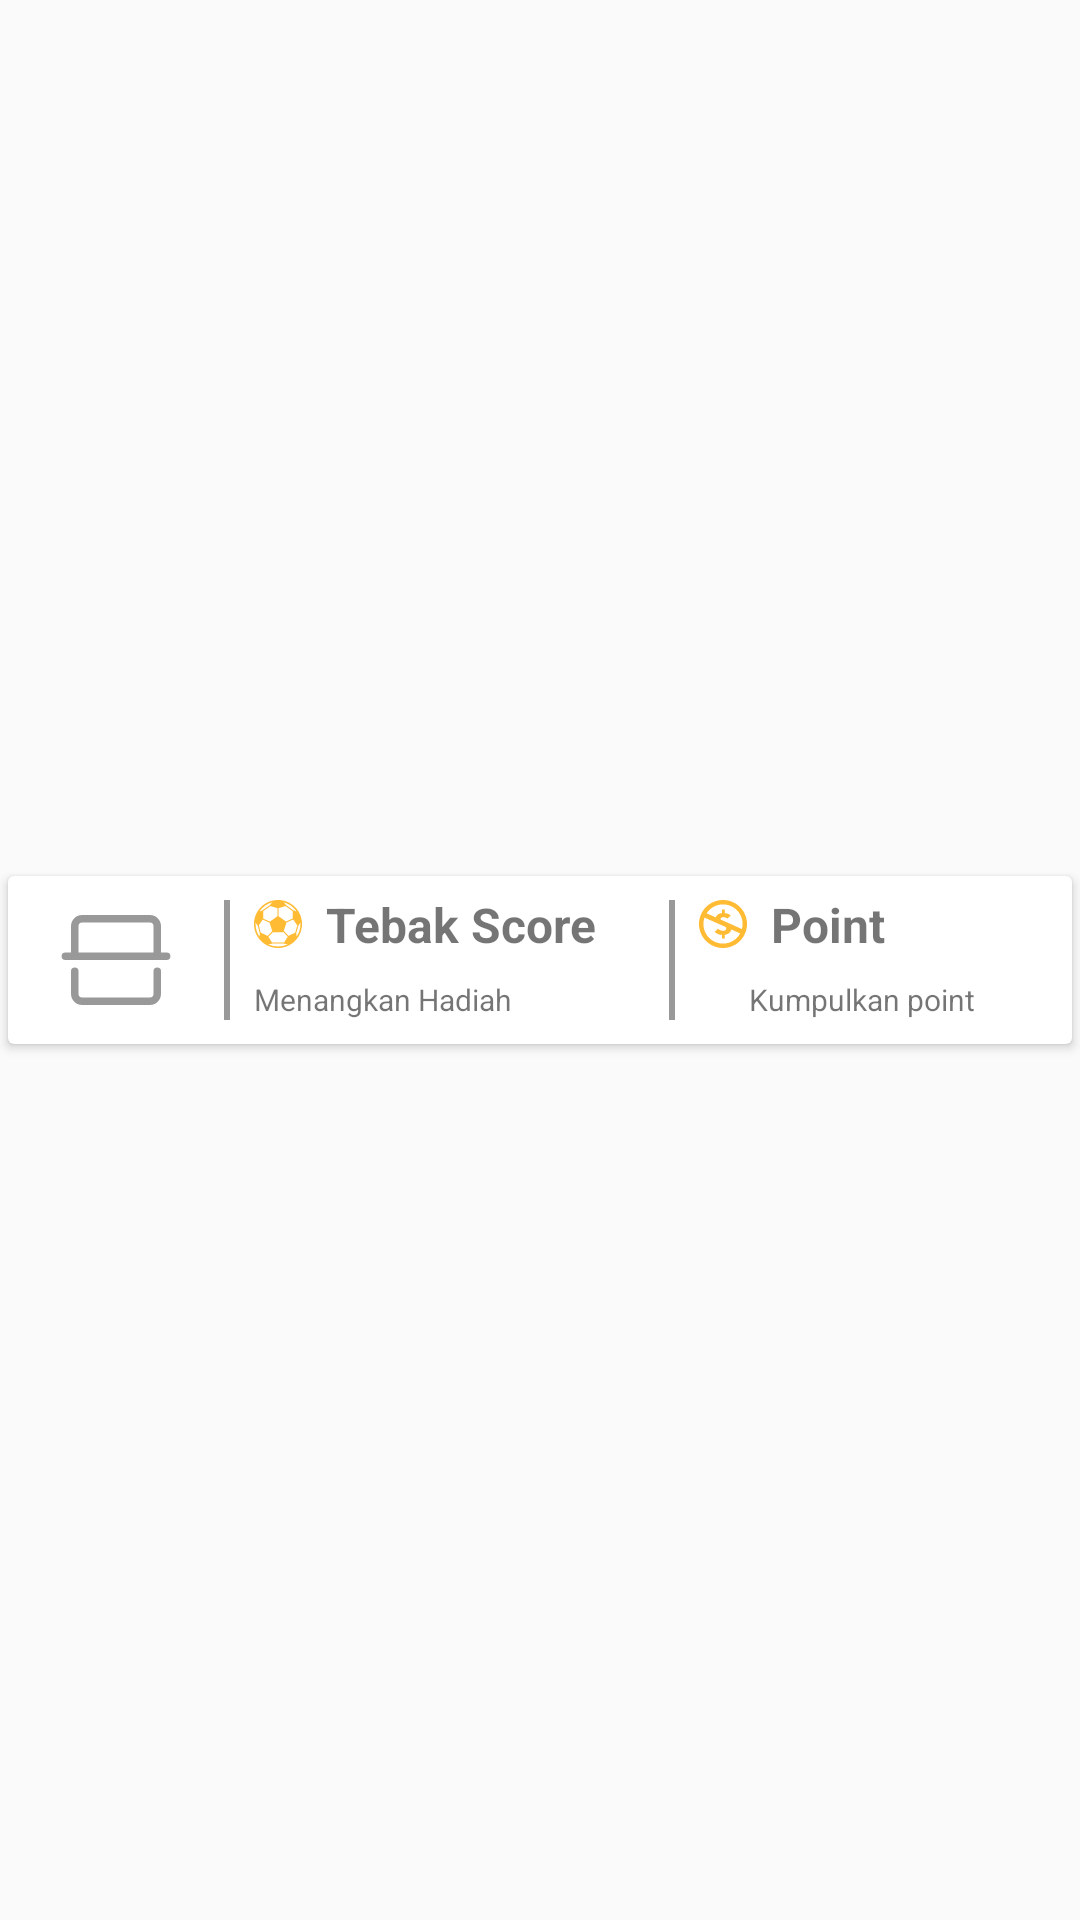

Screen size 1080*1920. Icon name, then its box in pixels as BBox(x1, y1, x2, y2):
scan: BBox(61, 915, 171, 1005)
